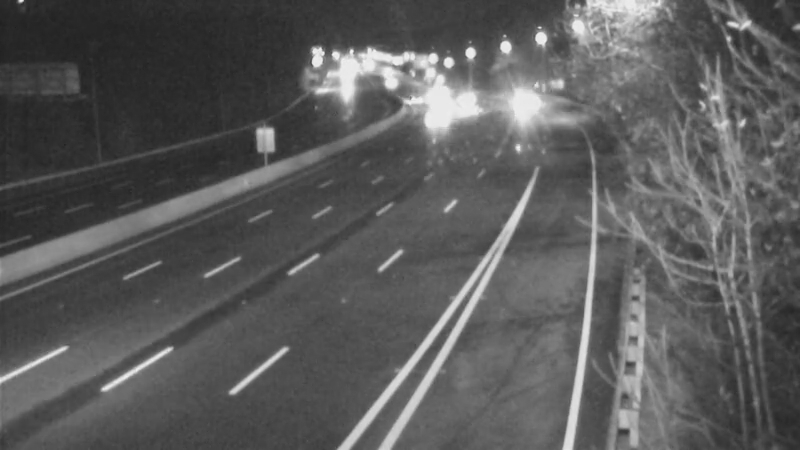vehicle: (439, 71, 489, 121), (495, 80, 545, 130), (442, 87, 492, 137), (412, 95, 462, 145)
